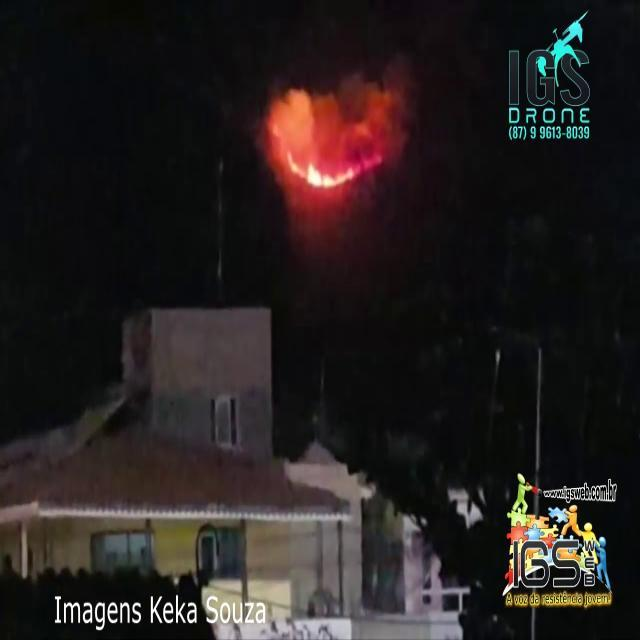Fire: (288, 151, 378, 189)
Smoke: (261, 78, 414, 260)
